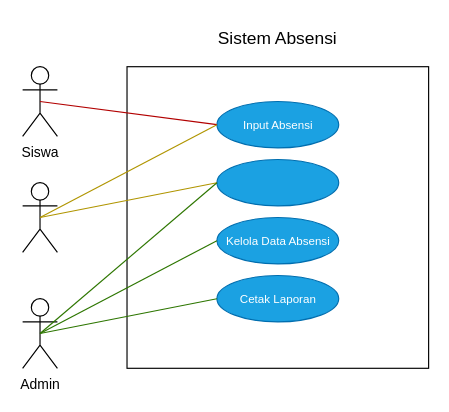
Some shapes in this 449 by 412 pixel diagram are drawn without their labels. The centre of each missing label's shape, as x and y in pixels:
"Guru" belongs at (x=39, y=217).
"Verifikasi Absensi" belongs at (x=277, y=182).
